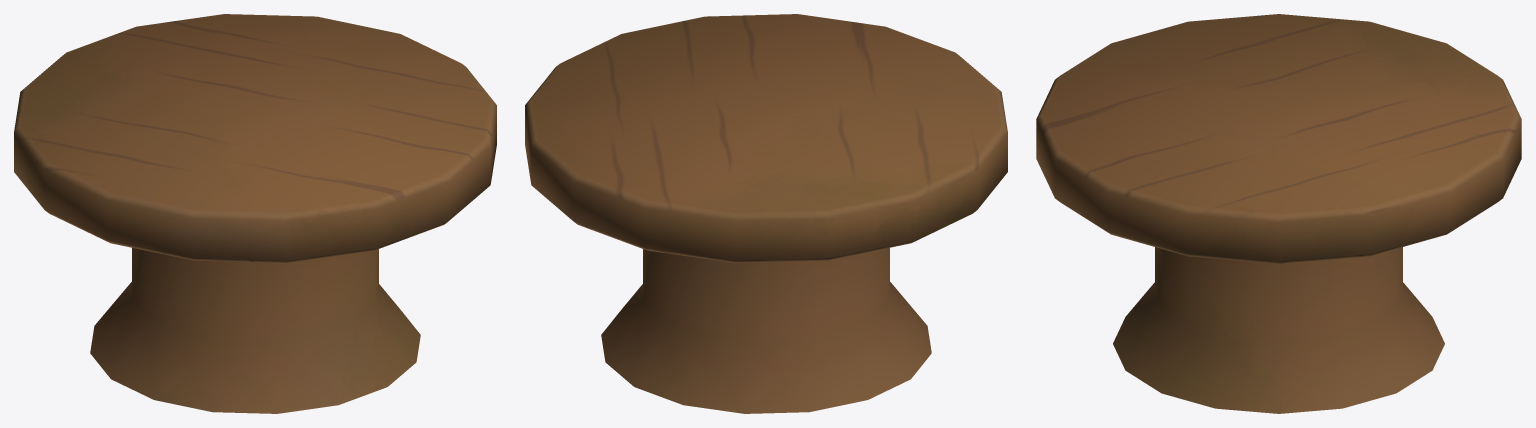
The model's file is Table.fbx.
3 views of the same model, side by side, from view 1: azimuth 30°, elevation 25°; view 2: azimuth 150°, elevation 25°; view 3: azimuth 270°, elevation 25° (orthographic).
Visible parts, largest first — view 1: Cylinder.040; view 2: Cylinder.040; view 3: Cylinder.040.
Boxes of the visible parts, x1,y1,x2,y2 form: Cylinder.040: (14, 14, 496, 413); Cylinder.040: (525, 14, 1007, 413); Cylinder.040: (1036, 14, 1521, 413).
Bounding box in the file's own units: 200 × 104 × 200.
Materials: 1 (1 with a texture image).
